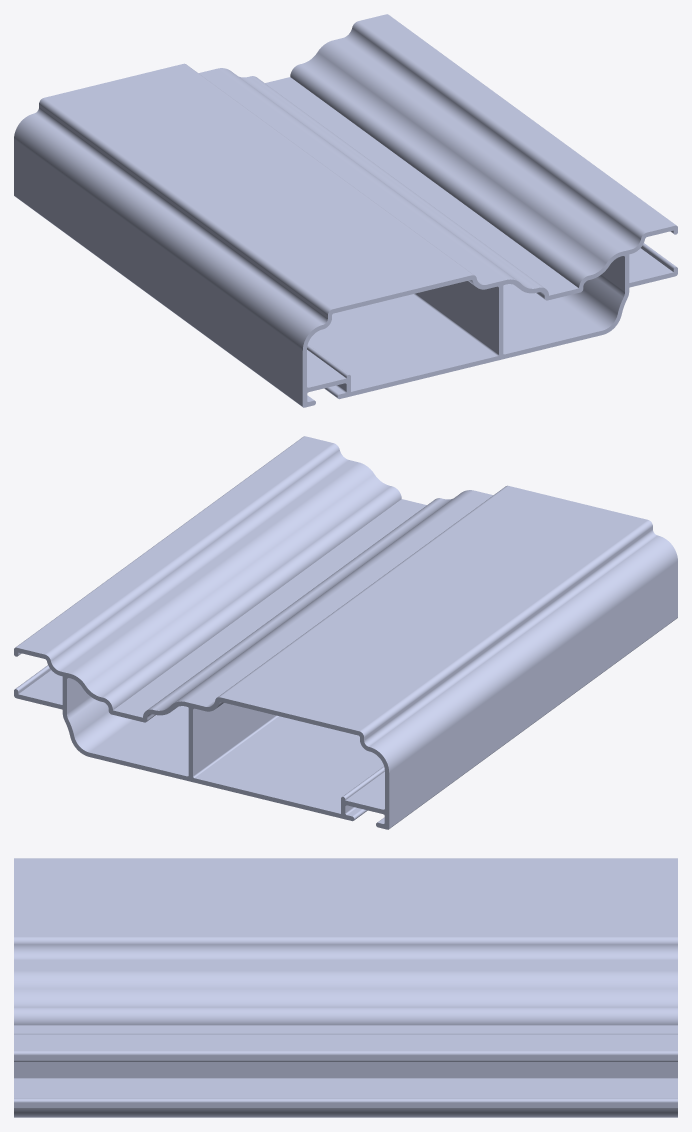
3 renders of one model, top to bottom at view 1: azimuth 30°, elevation 25°; view 2: azimuth 150°, elevation 25°; view 3: azimuth 270°, elevation 25°, orthographic. The views are drawn at different scales.
Visible parts, largest first — view 1: IF 588; view 2: IF 588; view 3: IF 588.
Part boxes in pixels (x1=…): IF 588: x1=14, y1=14, x2=677, y2=407; IF 588: x1=14, y1=436, x2=677, y2=829; IF 588: x1=14, y1=858, x2=677, y2=1117.
Size of the model in its own units: 7.5 by 1.75 by 10.
